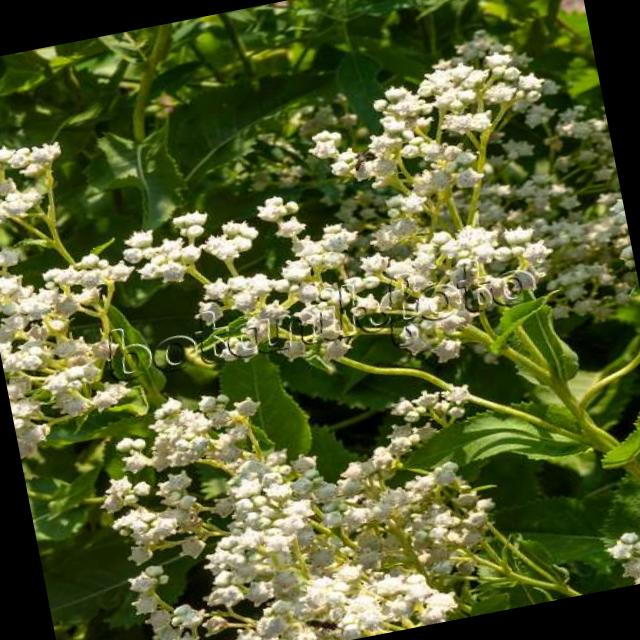Poisonous-Parthenium: (63, 320, 584, 640), (185, 39, 640, 380), (0, 97, 297, 585)
